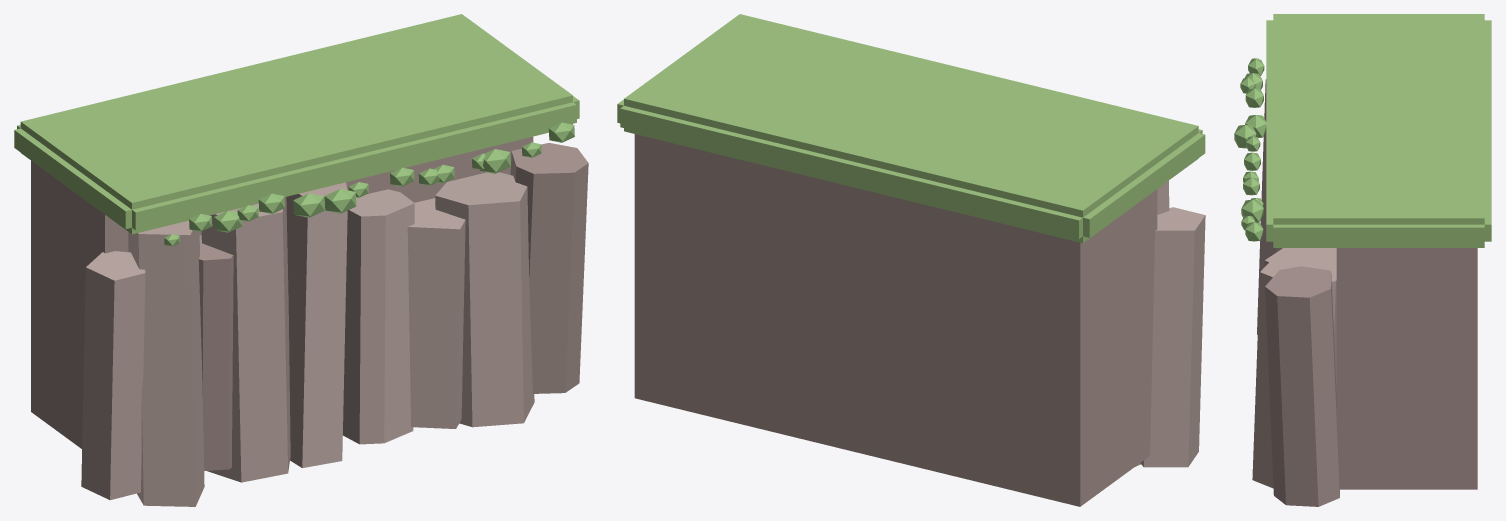
File: HOB_CliffWall_10m.fbx
3 renders of one model, left to right at view 1: azimuth 30°, elevation 25°; view 2: azimuth 150°, elevation 25°; view 3: azimuth 270°, elevation 25°, orthographic. The views are drawn at different scales.
Parts seen in each view (by area): view 1: HOB_CliffWall_10m; view 2: HOB_CliffWall_10m; view 3: HOB_CliffWall_10m.
Part boxes in pixels (bbox=[...]): HOB_CliffWall_10m: bbox=[14, 14, 588, 506]; HOB_CliffWall_10m: bbox=[617, 14, 1205, 506]; HOB_CliffWall_10m: bbox=[1234, 14, 1491, 506].
Size of the model in its own units: 1134 by 709 by 548.
